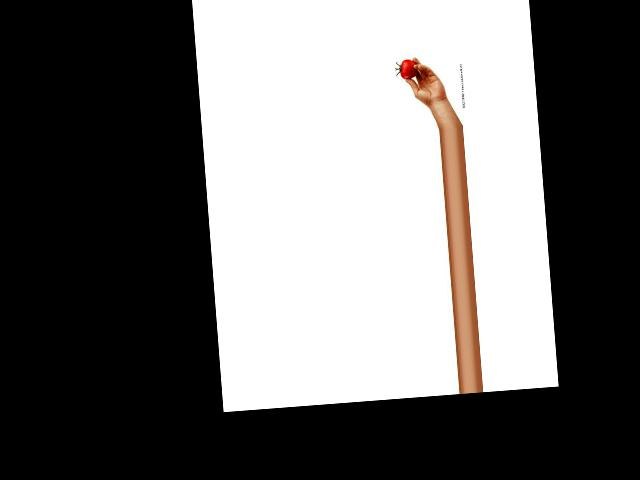tomato: (399, 59, 418, 80)
